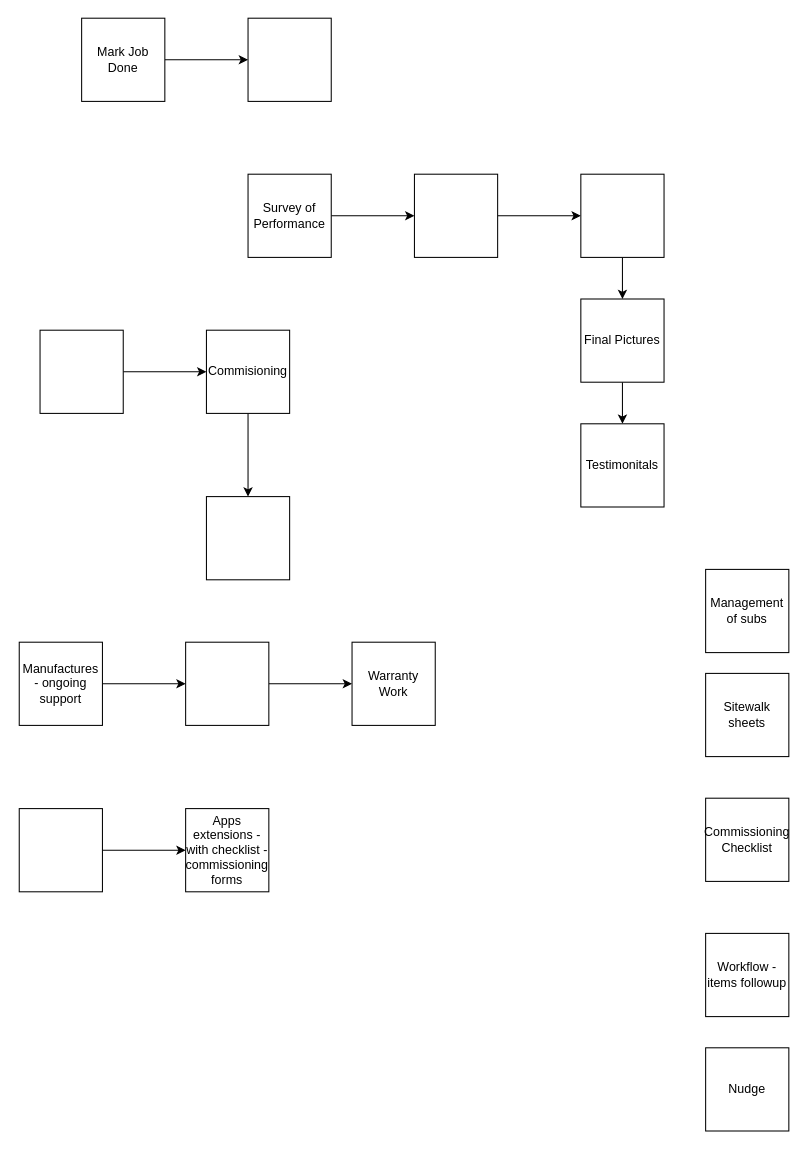
Some shapes in this 808 by 1149 pixel diagram are drawn without their labels. The box of each missing label's shape, as (x1, y1, x2, y2) in pixels:
Commissioning Chargers: (18, 808, 102, 892)
Customer Sign-off Completion: (580, 173, 664, 257)
Goes to queue for follow-up: (247, 17, 331, 101)
Maintenance: (185, 641, 269, 725)
Post consturction: (39, 329, 123, 413)
Training: (205, 496, 290, 580)
Walkthrough with Customer: (413, 173, 498, 257)
